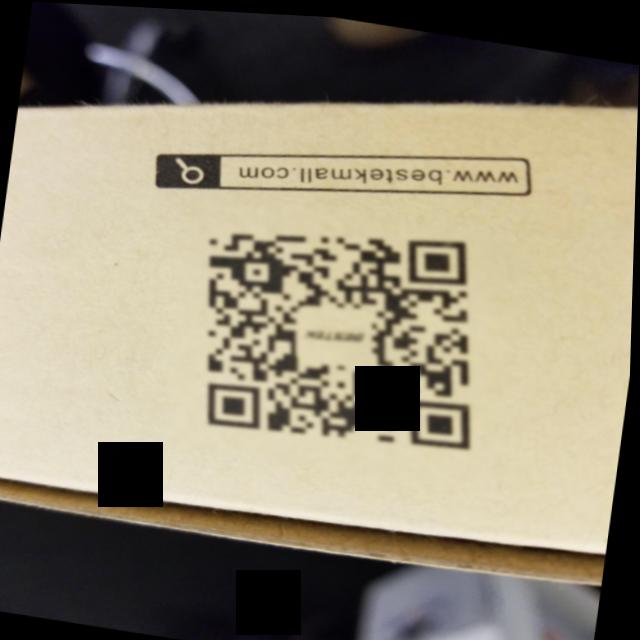QR_CODE: (162, 185, 529, 492)
